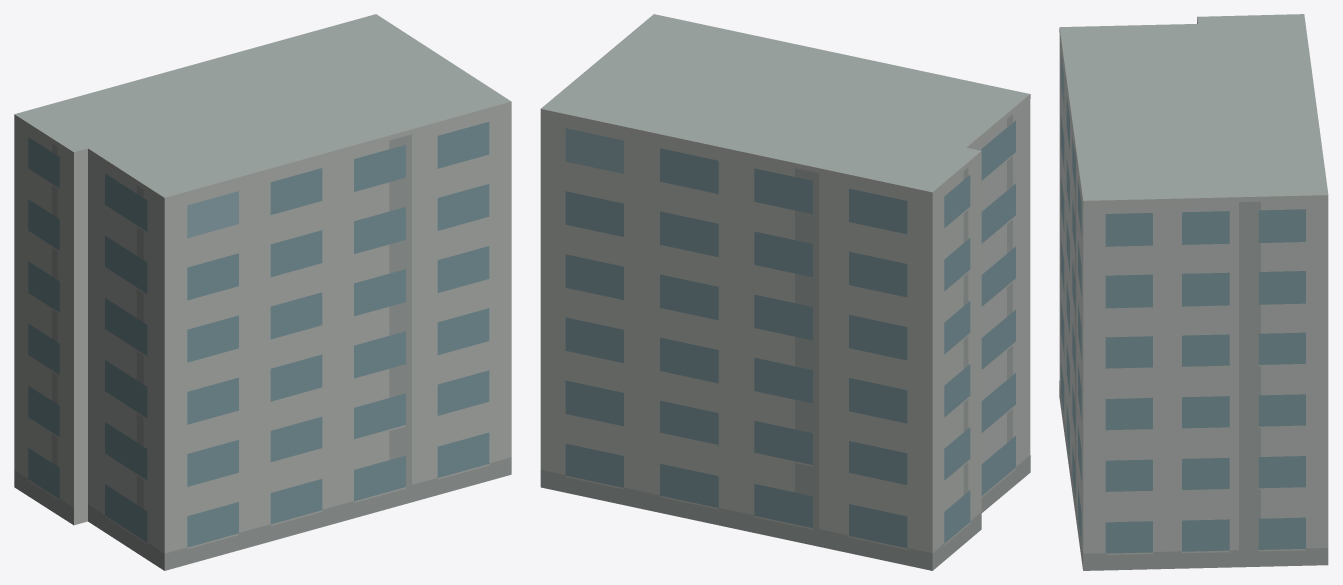
The model's file is survey-upis-32641923.glb.
3 renders of one model, left to right at view 1: azimuth 30°, elevation 25°; view 2: azimuth 150°, elevation 25°; view 3: azimuth 270°, elevation 25°, orthographic. The views are drawn at different scales.
Visible parts, largest first — view 1: survey-upis-32641923.tmp; view 2: survey-upis-32641923.tmp; view 3: survey-upis-32641923.tmp.
Part boxes in pixels (<box>): survey-upis-32641923.tmp: <box>14,14,511,570</box>; survey-upis-32641923.tmp: <box>540,14,1030,570</box>; survey-upis-32641923.tmp: <box>1059,14,1328,570</box>.
Bounding box in the file's own units: 19.83 × 18.3 × 12.07.
